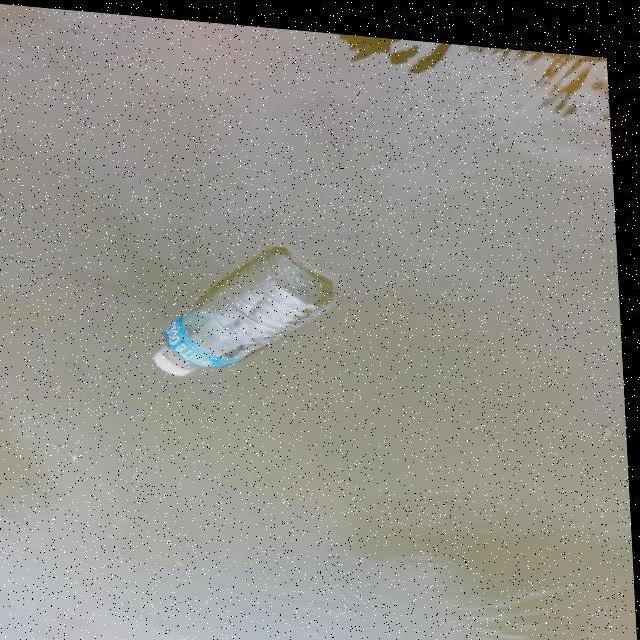Bottle: (144, 236, 342, 386)
